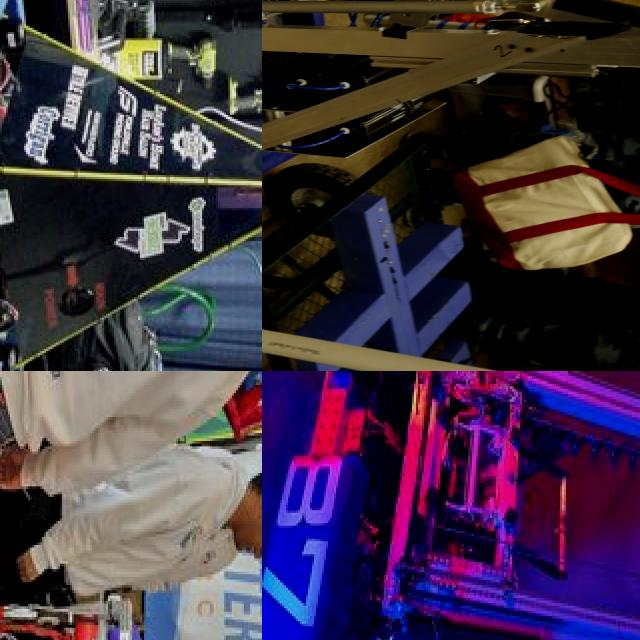FRC-Robots: (262, 371, 640, 640), (262, 0, 640, 266), (0, 0, 262, 371), (0, 527, 171, 640)
